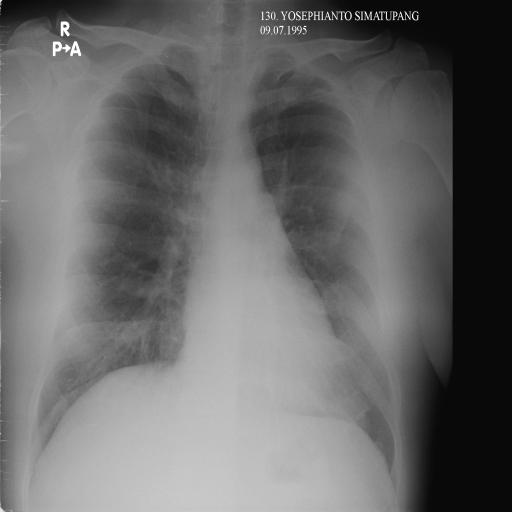normal: (22, 34, 408, 488)
